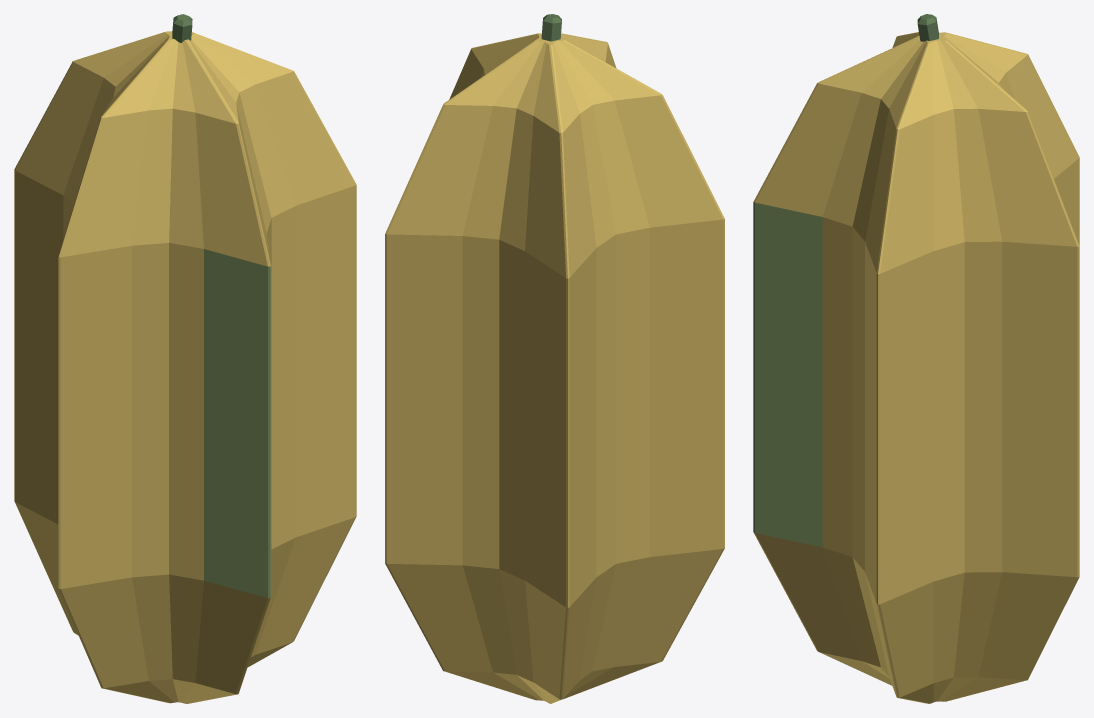
File: starfruit.glb
The picture shows the model from 3 angles, left to right: view 1: azimuth 30°, elevation 25°; view 2: azimuth 150°, elevation 25°; view 3: azimuth 270°, elevation 25°; orthographic projection.
Visible parts, largest first — view 1: starfruit; view 2: starfruit; view 3: starfruit.
Boxes of the visible parts, x1=… form: starfruit: x1=14, y1=14, x2=356, y2=703; starfruit: x1=385, y1=14, x2=724, y2=703; starfruit: x1=753, y1=14, x2=1079, y2=703.
Bounding box in the file's own units: 0.047 × 0.1031 × 0.0447.
